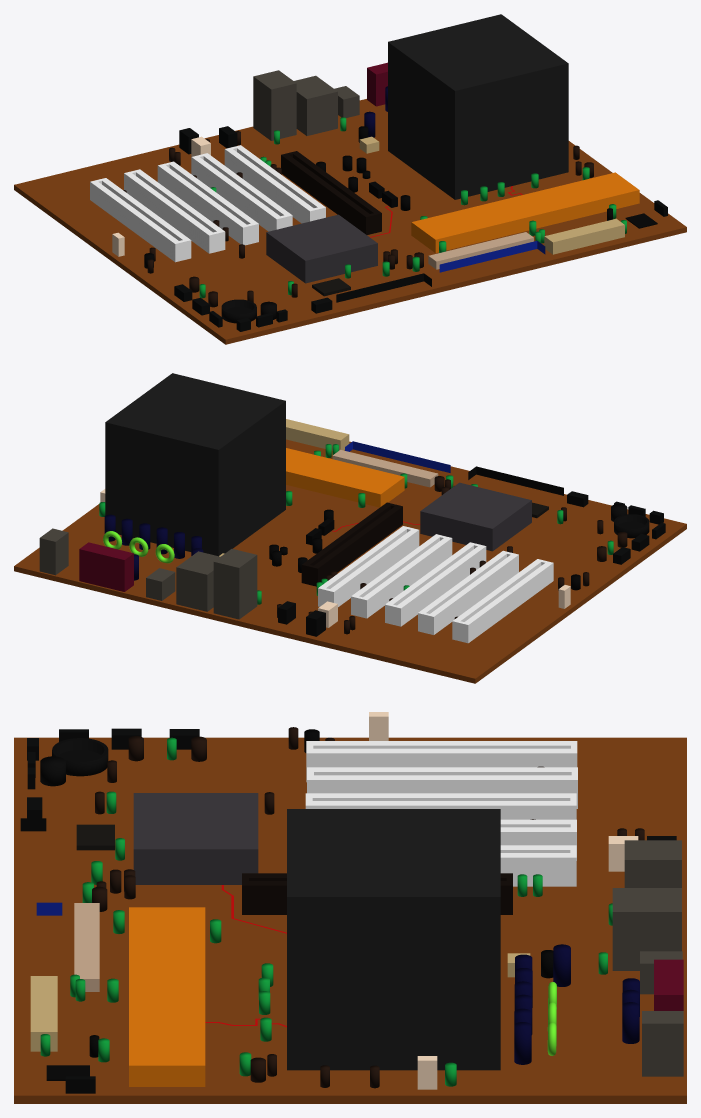
The model's file is model2_pcb.obj.
3 renders of one model, top to bottom at view 1: azimuth 30°, elevation 25°; view 2: azimuth 150°, elevation 25°; view 3: azimuth 270°, elevation 25°, orthographic. The views are drawn at different scales.
Parts seen in each view (by area): view 1: Cylinder.001_Cylinder.112, Cylinder.002_Cylinder.001, Cylinder.073_Cylinder.072, Cylinder.008_Cylinder.007, Cylinder.003_Cylinder.002, Cylinder.102_Cylinder.101, Cylinder.106_Cylinder.105, Cylinder.103_Cylinder.102, Cylinder.104_Cylinder.103, Cylinder.105_Cylinder.104, Cylinder.009_Cylinder.008, Cylinder.044_Cylinder.043 (+7 smaller); view 2: Cylinder.001_Cylinder.112, Cylinder.002_Cylinder.001, Cylinder.008_Cylinder.007, Cylinder.073_Cylinder.072, Cylinder.003_Cylinder.002, Cylinder.102_Cylinder.101, Cylinder.106_Cylinder.105, Cylinder.104_Cylinder.103, Cylinder.103_Cylinder.102, Cylinder.105_Cylinder.104, Cylinder.009_Cylinder.008, Cylinder.006_Cylinder.005 (+8 smaller); view 3: Cylinder.001_Cylinder.112, Cylinder.002_Cylinder.001, Cylinder.073_Cylinder.072, Cylinder.008_Cylinder.007, Cylinder.003_Cylinder.002, Cylinder.102_Cylinder.101, Cylinder.103_Cylinder.102, Cylinder.044_Cylinder.043, Cylinder.105_Cylinder.104, Cylinder.009_Cylinder.008, Cylinder.005_Cylinder.004, Cylinder.106_Cylinder.105 (+14 smaller).
Part boxes in pixels (box(x1,y1,x2,y2)): Cylinder.001_Cylinder.112: box(14, 99, 686, 344); Cylinder.002_Cylinder.001: box(388, 14, 568, 199); Cylinder.073_Cylinder.072: box(411, 172, 639, 253); Cylinder.008_Cylinder.007: box(266, 214, 377, 283); Cylinder.003_Cylinder.002: box(90, 178, 191, 262); Cylinder.102_Cylinder.101: box(124, 169, 225, 253); Cylinder.106_Cylinder.105: box(281, 151, 381, 234); Cylinder.103_Cylinder.102: box(157, 161, 258, 245); Cylinder.104_Cylinder.103: box(191, 153, 292, 231); Cylinder.105_Cylinder.104: box(224, 145, 325, 223); Cylinder.009_Cylinder.008: box(253, 70, 296, 140); Cylinder.044_Cylinder.043: box(294, 75, 337, 135); Cylinder.001_Cylinder.112: box(14, 439, 686, 683); Cylinder.002_Cylinder.001: box(105, 373, 285, 556); Cylinder.008_Cylinder.007: box(420, 482, 531, 551); Cylinder.073_Cylinder.072: box(286, 448, 404, 507); Cylinder.003_Cylinder.002: box(452, 559, 553, 643); Cylinder.102_Cylinder.101: box(418, 550, 518, 634); Cylinder.106_Cylinder.105: box(301, 502, 402, 586); Cylinder.104_Cylinder.103: box(351, 534, 452, 618); Cylinder.103_Cylinder.102: box(385, 542, 486, 626); Cylinder.105_Cylinder.104: box(318, 526, 419, 606); Cylinder.009_Cylinder.008: box(213, 549, 257, 619); Cylinder.006_Cylinder.005: box(79, 542, 133, 591); Cylinder.001_Cylinder.112: box(14, 737, 686, 1103); Cylinder.002_Cylinder.001: box(287, 809, 500, 1070); Cylinder.073_Cylinder.072: box(129, 907, 205, 1086); Cylinder.008_Cylinder.007: box(133, 793, 258, 884); Cylinder.003_Cylinder.002: box(306, 741, 577, 782); Cylinder.102_Cylinder.101: box(307, 767, 577, 808); Cylinder.103_Cylinder.102: box(305, 793, 576, 819); Cylinder.044_Cylinder.043: box(612, 888, 681, 970); Cylinder.105_Cylinder.104: box(500, 845, 576, 886); Cylinder.009_Cylinder.008: box(624, 840, 681, 887); Cylinder.005_Cylinder.004: box(642, 1011, 683, 1076); Cylinder.106_Cylinder.105: box(242, 873, 512, 914).
Bounding box in the file's own units: 0.3736 × 0.0882 × 0.2968.
